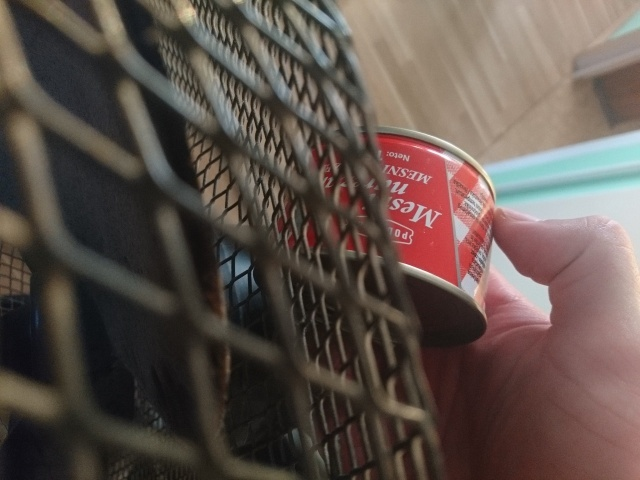Podravka Luncheon Meat 150g: (249, 121, 500, 352)
